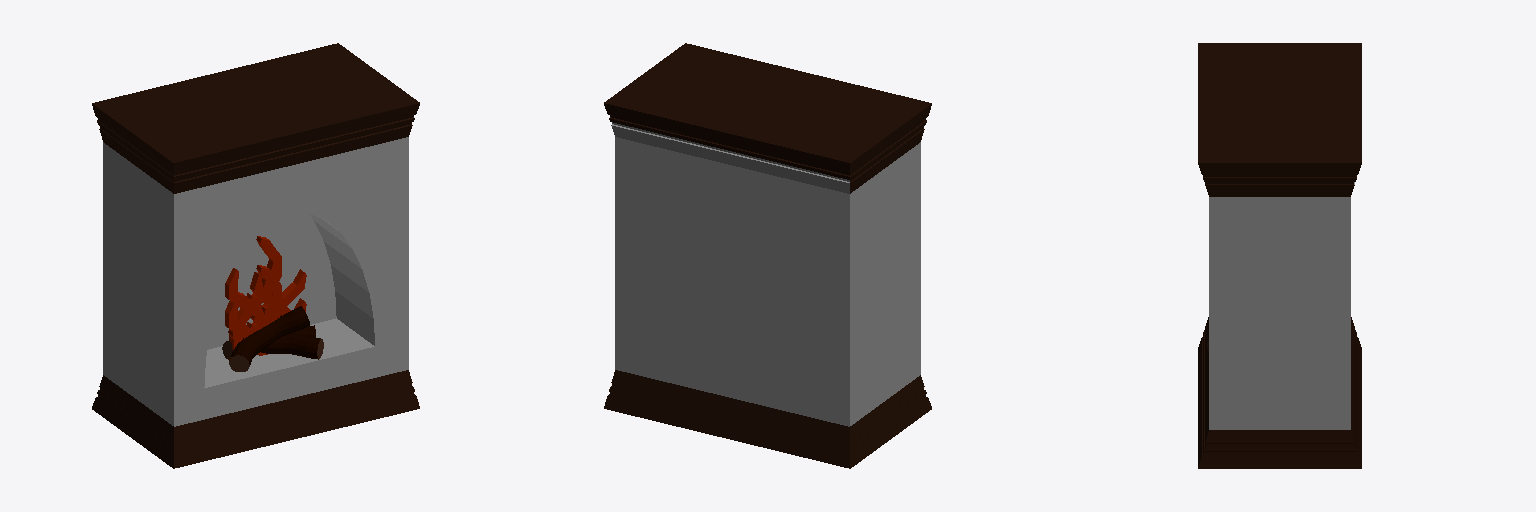
Rendered from Fireplace_174.obj.
The picture shows the model from 3 angles: view 1: azimuth 30°, elevation 25°; view 2: azimuth 150°, elevation 25°; view 3: azimuth 270°, elevation 25°; orthographic projection.
Parts seen in each view (by area): view 1: Cylinder001, Line007, Line006, Line005, Line004; view 2: Cylinder001; view 3: Cylinder001.
Part boxes in pixels (x1,y1,x2,y2): Cylinder001: (92,43,419,468); Line007: (225,236,306,350); Line006: (229,306,309,371); Line005: (222,325,323,359); Line004: (225,265,306,359); Cylinder001: (604,43,931,468); Cylinder001: (1198,43,1361,468).
Size of the model in its own units: 41.42 by 49.01 by 23.82.